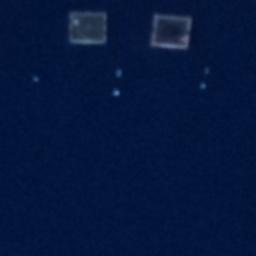square_cover: (145, 9, 196, 50), (63, 7, 114, 47)
